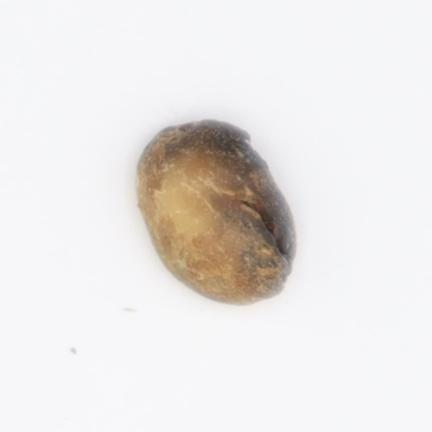partial-black: (137, 120, 295, 303)
